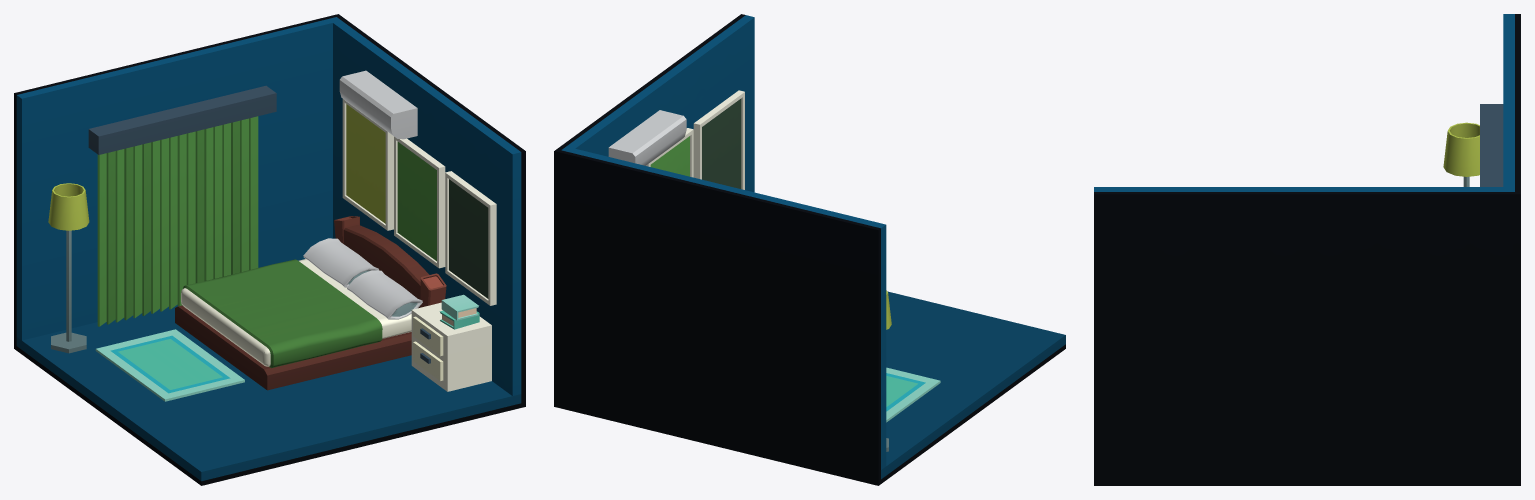
Rendered from roomCamera3.glb.
The picture shows the model from 3 angles, left to right: view 1: azimuth 30°, elevation 25°; view 2: azimuth 150°, elevation 25°; view 3: azimuth 270°, elevation 25°; orthographic projection. The views are drawn at different scales.
Parts seen in each view (by area): view 1: Walls_Colors_0.002, Matress, Carpet2, Picture3_Colors_0.001, Picture2_Colors_0.001, Curtain_Holder, polySurface7, Picture1_Colors_0.001, pCube17, Airconditioner, polySurface4, Pillow2 (+25 smaller); view 2: Walls_Colors_0.002, Picture3_Colors_0.001, Airconditioner, Carpet2, Picture2_Colors_0.001; view 3: Walls_Colors_0.002, Curtain_Holder, polySurface2.
Boxes of the visible parts, bbox=[...] form: Walls_Colors_0.002: bbox=[14, 14, 525, 485]; Matress: bbox=[181, 259, 411, 368]; Carpet2: bbox=[95, 329, 244, 401]; Picture3_Colors_0.001: bbox=[445, 171, 496, 305]; Picture2_Colors_0.001: bbox=[394, 136, 445, 268]; Curtain_Holder: bbox=[88, 85, 276, 154]; polySurface7: bbox=[175, 305, 411, 390]; Picture1_Colors_0.001: bbox=[342, 99, 393, 230]; pCube17: bbox=[411, 302, 491, 391]; Airconditioner: bbox=[339, 70, 417, 139]; polySurface4: bbox=[343, 224, 429, 308]; Pillow2: bbox=[347, 270, 422, 319]; Walls_Colors_0.002: bbox=[554, 14, 1065, 485]; Picture3_Colors_0.001: bbox=[693, 90, 744, 189]; Airconditioner: bbox=[608, 110, 686, 165]; Carpet2: bbox=[886, 367, 940, 422]; Picture2_Colors_0.001: bbox=[646, 128, 693, 177]; Walls_Colors_0.002: bbox=[1094, 14, 1520, 485]; Curtain_Holder: bbox=[1480, 104, 1503, 186]; polySurface2: bbox=[1443, 122, 1479, 176].
Size of the model in its own units: 3.65 by 2.75 by 3.65.
1 material, 1 textured.
